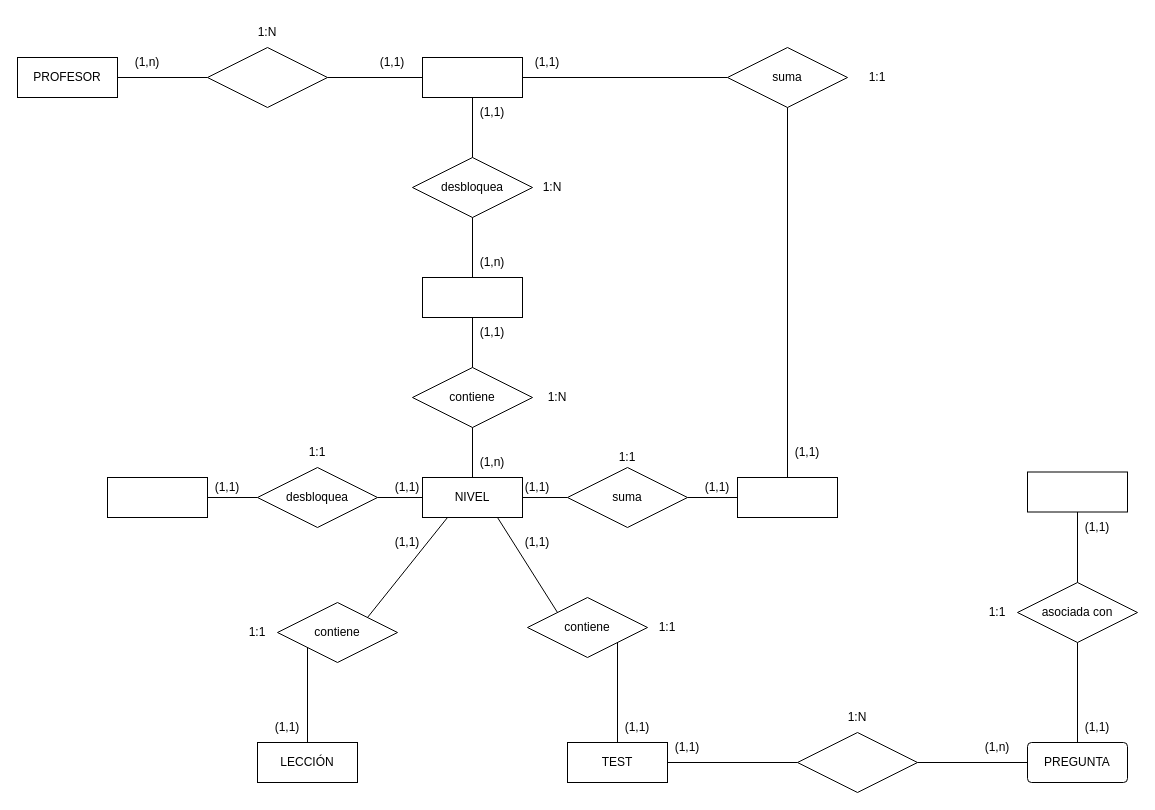
This 1155x810 diagram has some shape labels left out. Each missing label, with the centre of its shape:
"formado por" belongs at point (857, 762).
"MUNDO" belongs at point (472, 297).
"PUNTUACIÓN" belongs at point (787, 497).
"RECOMPENSA" belongs at point (157, 497).
"RESPUESTA" belongs at point (1077, 491).
"tutelan" belongs at point (267, 77).
"USUARIO" belongs at point (472, 77).
